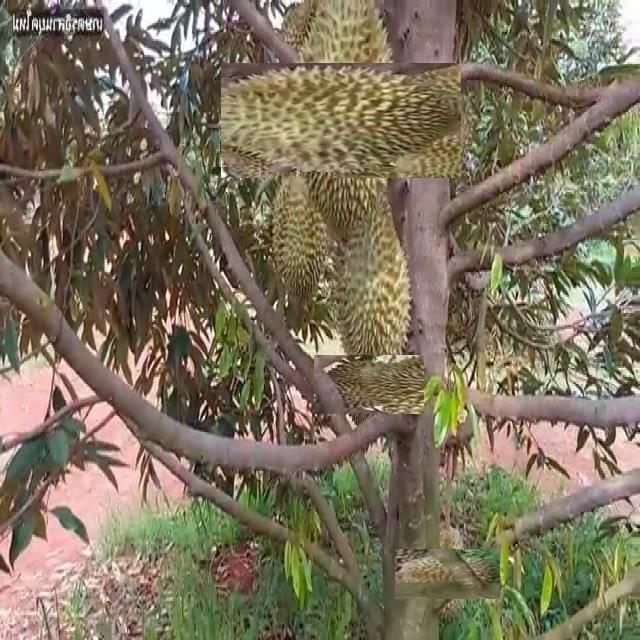durian: (252, 32, 431, 210), (334, 184, 410, 396), (269, 172, 333, 310), (326, 342, 412, 426), (409, 535, 487, 613)
